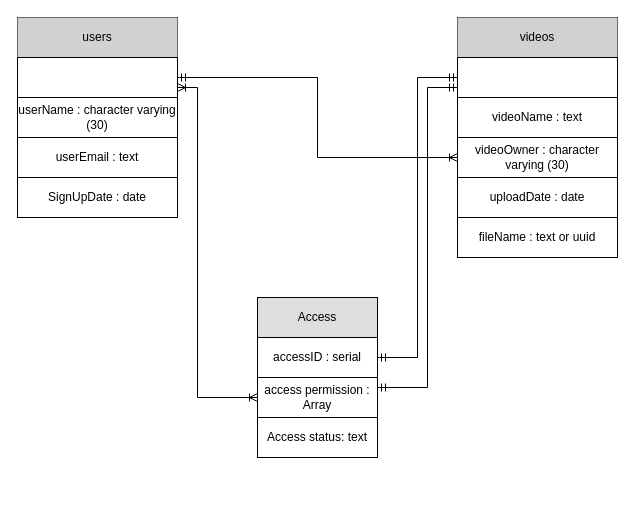
Image size: 635x515. Some labels were removed from this diagram. The shapes that lost their labels are listed below. From the top down, each one's centre as x and y in pixels, then its label:
At point 97,77: "userID : uuid".
At point 537,77: "videoID : serial".
